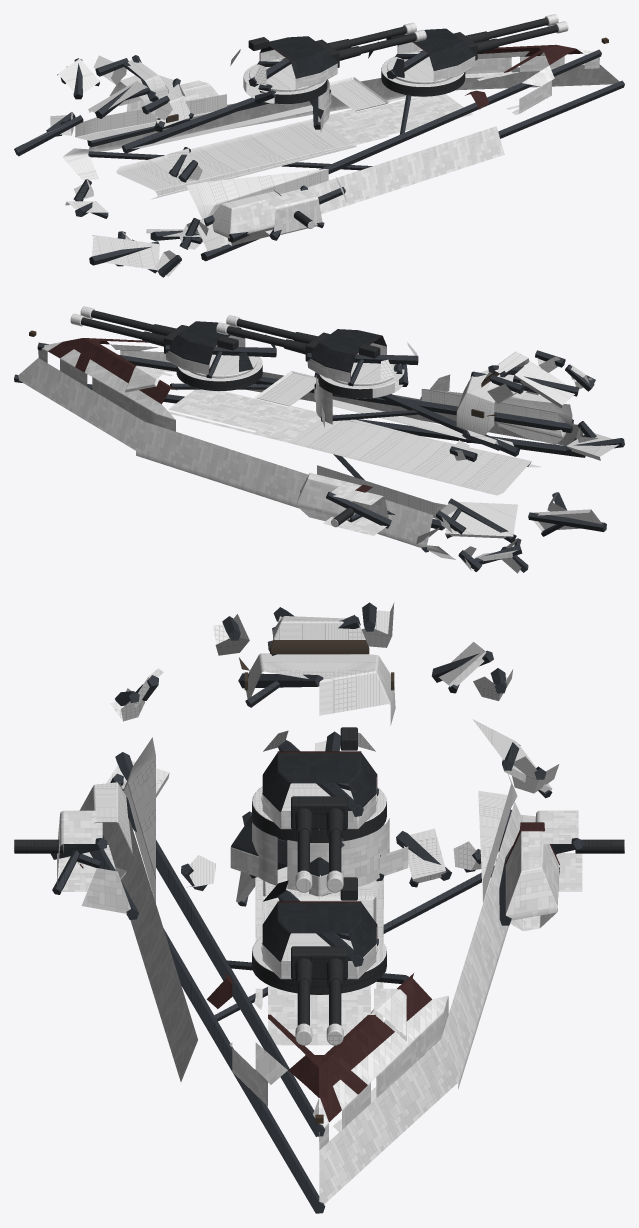
Rendered from wreck_corvette_forward__stripped_heavy.glb.
3 views of the same model, one above another, from view 1: azimuth 30°, elevation 25°; view 2: azimuth 150°, elevation 25°; view 3: azimuth 270°, elevation 25° (orthographic). The views are drawn at different scales.
Parts seen in each view (by area): view 1: Deck, LowerHull, TurretBHouse, TurretAHouse, Belt0_M, Deck_xrib2a, Casemate_M, woundAft_t_tear5, LowerHull_xrib1a, Citadel_xrib5a, TurretARing, Citadel (+17 smaller); view 2: Deck, LowerHull, TurretBHouse, TurretAHouse, Deck_xrib2a, Belt0, woundAft_t_tear3, Bridge1, LowerHull_xrib1a, Casemate, TurretARing, Belt0_M (+20 smaller); view 3: Deck, LowerHull, TurretBHouse, Bridge1, TurretAHouse, Belt0, Deck_xrib2a, TurretBBarbette, LowerHull_xrib1a, Belt0_M, Bridge2, Citadel (+13 smaller).
Part boxes in pixels (x1,y1,x2,y2): Deck: [75, 44, 599, 219]; LowerHull: [62, 64, 619, 251]; TurretBHouse: [230, 36, 337, 90]; TurretAHouse: [368, 28, 475, 82]; Belt0_M: [212, 177, 347, 245]; Deck_xrib2a: [203, 49, 601, 226]; Casemate_M: [265, 189, 322, 234]; woundAft_t_tear5: [92, 235, 159, 270]; LowerHull_xrib1a: [200, 80, 624, 261]; Citadel_xrib5a: [122, 97, 256, 153]; TurretARing: [381, 56, 465, 96]; Citadel: [131, 89, 331, 148]; Deck: [38, 338, 572, 520]; LowerHull: [18, 358, 583, 559]; TurretBHouse: [307, 329, 417, 382]; TurretAHouse: [166, 321, 275, 374]; Deck_xrib2a: [37, 342, 572, 432]; Belt0: [297, 473, 439, 543]; woundAft_t_tear3: [445, 501, 517, 538]; Bridge1: [456, 369, 521, 435]; LowerHull_xrib1a: [14, 374, 585, 457]; Casemate: [323, 486, 388, 535]; TurretARing: [176, 356, 262, 391]; Belt0_M: [430, 374, 572, 444]; Deck: [123, 737, 517, 1149]; LowerHull: [102, 783, 523, 1204]; TurretBHouse: [262, 730, 377, 829]; Bridge1: [246, 653, 395, 725]; TurretAHouse: [262, 880, 377, 979]; Belt0: [504, 814, 559, 931]; Deck_xrib2a: [121, 788, 325, 1136]; TurretBBarbette: [252, 818, 389, 891]; LowerHull_xrib1a: [102, 835, 325, 1213]; Belt0_M: [78, 782, 133, 913]; Bridge2: [270, 616, 369, 654]; Citadel: [230, 740, 408, 896].
Bounding box in the file's own units: 89 × 30.85 × 52.96.
10 materials, 8 textured.
